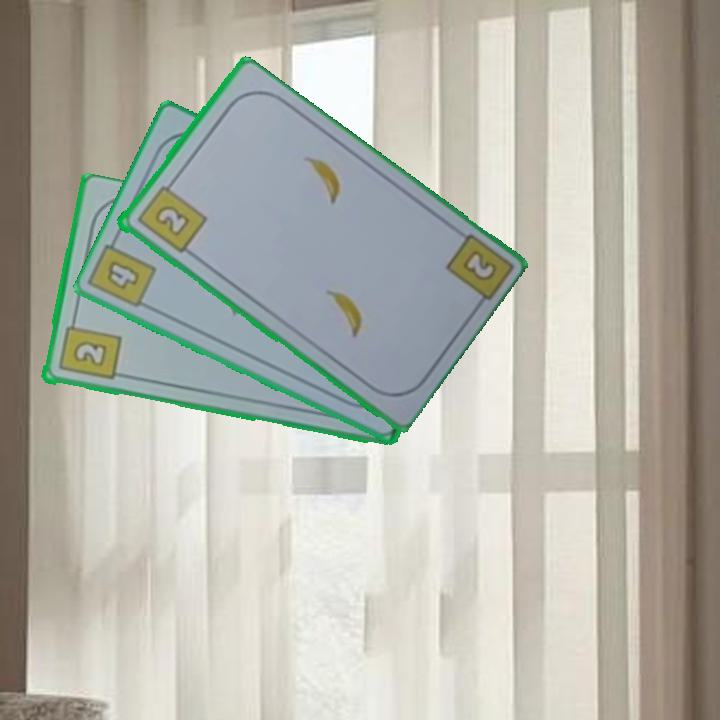2b: (133, 176, 209, 256), (55, 314, 123, 384), (458, 246, 500, 285)
4b: (102, 257, 143, 293)
